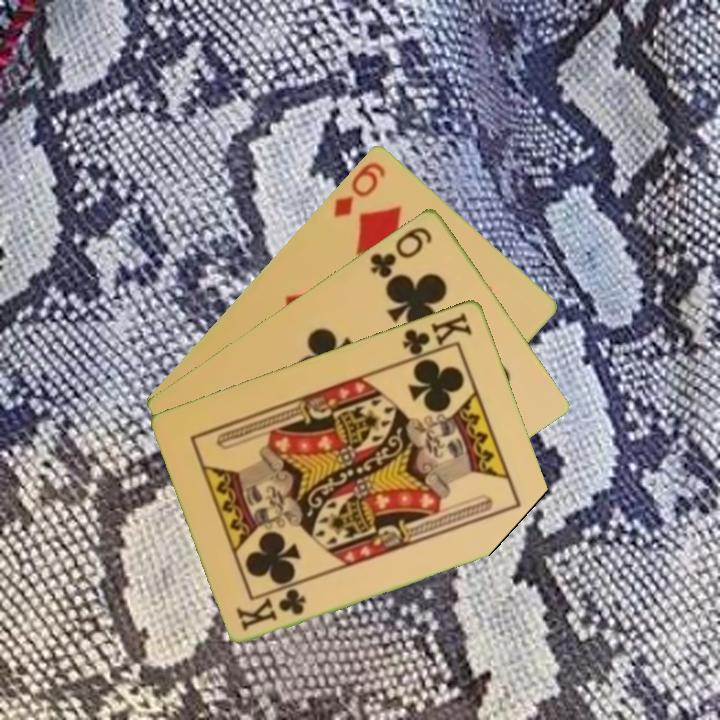6c: (366, 222, 436, 281)
6d: (330, 157, 389, 220)
Kc: (398, 308, 475, 363), (233, 584, 310, 633)
